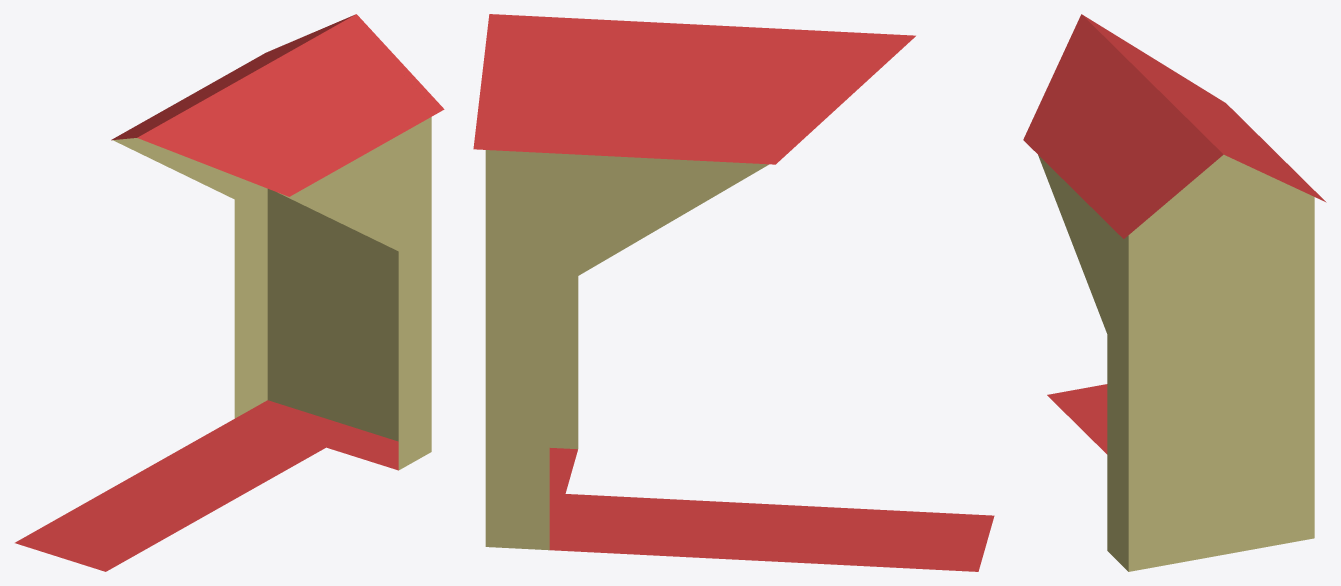
3 views of the same model, side by side, from view 1: azimuth 30°, elevation 25°; view 2: azimuth 150°, elevation 25°; view 3: azimuth 270°, elevation 25° (orthographic). The views are drawn at different scales.
Bounding box in the file's own units: 12.86 × 8.21 × 12.07.
